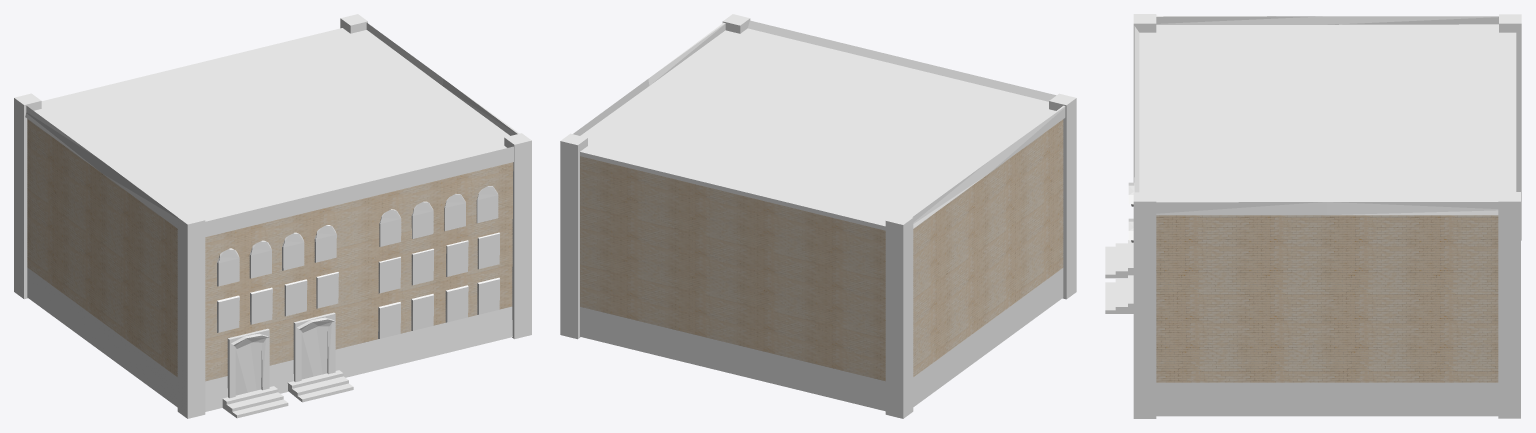
Rendered from city3_h14_LOD.fbx.
3 views of the same model, side by side, from view 1: azimuth 30°, elevation 25°; view 2: azimuth 150°, elevation 25°; view 3: azimuth 270°, elevation 25° (orthographic). The views are drawn at different scales.
Visible parts, largest first — view 1: Default_Layer; view 2: Default_Layer; view 3: Default_Layer.
Boxes of the visible parts, bbox=[...] form: Default_Layer: bbox=[14, 14, 531, 418]; Default_Layer: bbox=[560, 14, 1076, 418]; Default_Layer: bbox=[1105, 14, 1521, 418].
Bounding box in the file's own units: 937 × 506 × 878.
